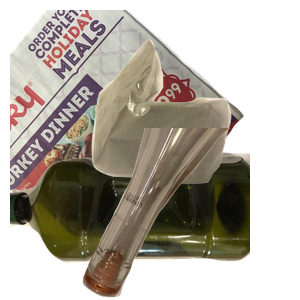glass: (80, 128, 300, 300)
paper: (10, 10, 247, 190)
plastic: (10, 149, 250, 300)
trash: (89, 37, 300, 213)
